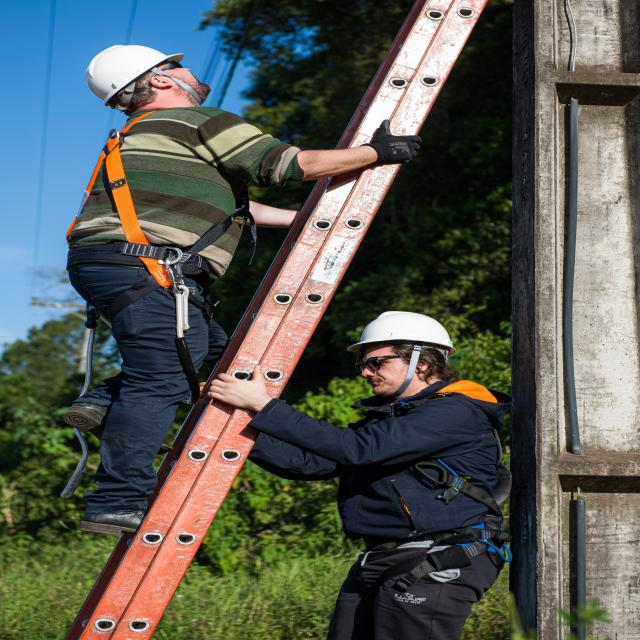capacete: (84, 44, 188, 107), (345, 310, 462, 356)
luva: (362, 119, 424, 170)
